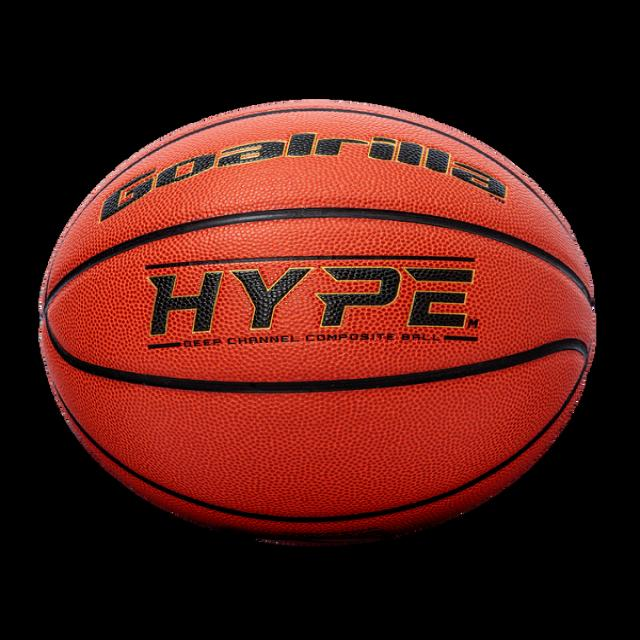non_orange: (18, 108, 602, 547)
